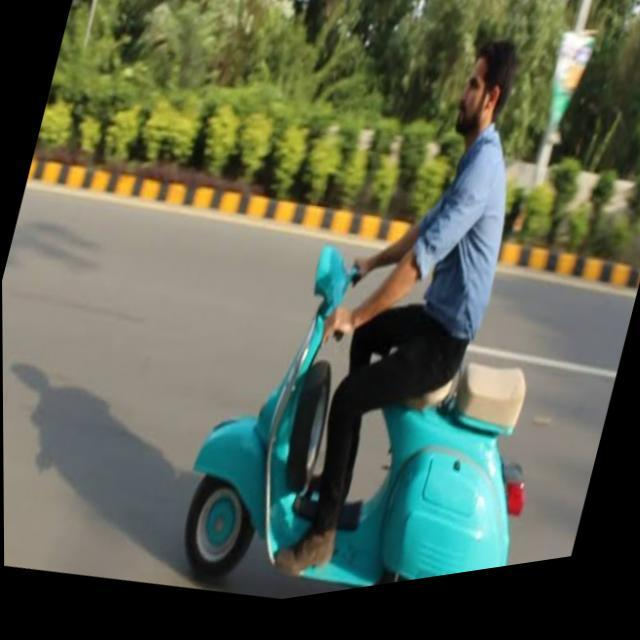Nonhelmet: (442, 27, 522, 145)
